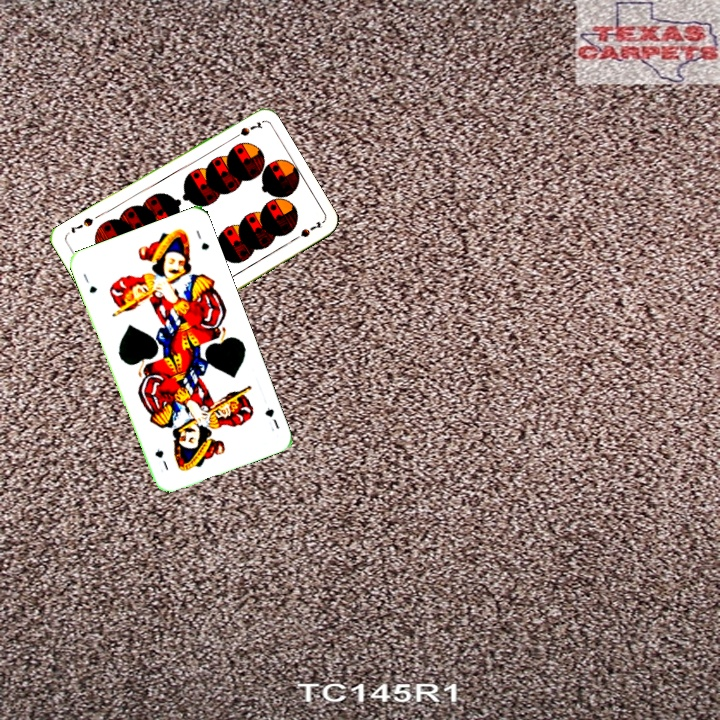GU: (261, 403, 282, 434), (79, 270, 100, 296)
S7: (226, 117, 264, 144)
